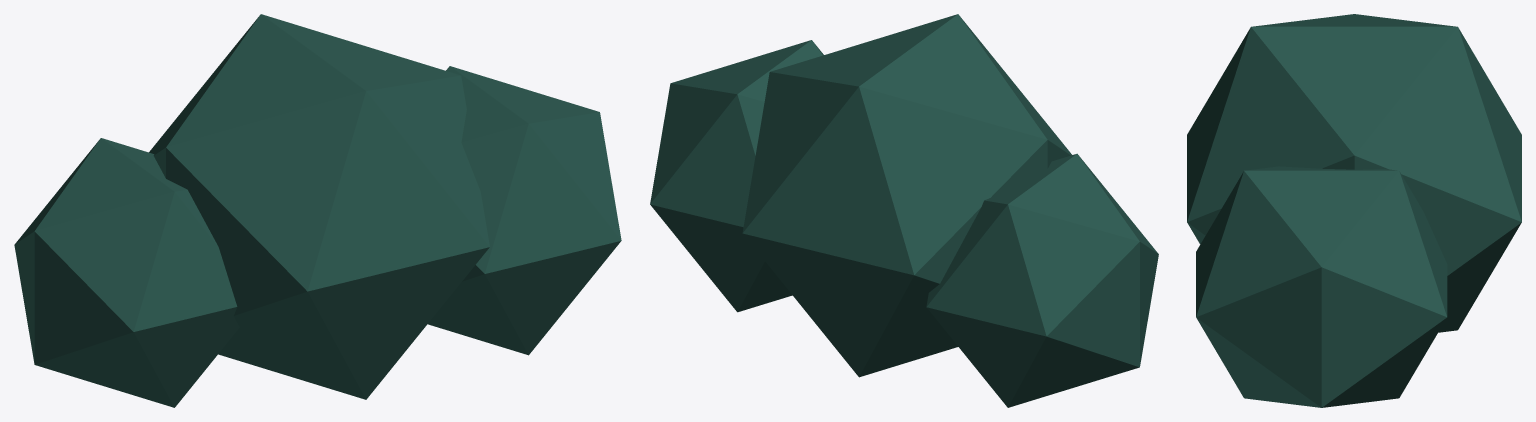
File: bush.glb
3 views of the same model, side by side, from view 1: azimuth 30°, elevation 25°; view 2: azimuth 150°, elevation 25°; view 3: azimuth 270°, elevation 25° (orthographic). The views are drawn at different scales.
Visible parts, largest first — view 1: Ball0, Ball1, Ball2; view 2: Ball0, Ball1, Ball2; view 3: Ball0, Ball2.
Part boxes in pixels (x1,y1,x2,y2): Ball0: (149,14,489,399); Ball1: (14,138,239,407); Ball2: (428,66,621,355); Ball0: (742,14,1071,377); Ball1: (926,153,1158,407); Ball2: (650,40,823,312); Ball0: (1187,14,1521,332); Ball2: (1196,166,1447,407).
Bounding box in the file's own units: 1.84 × 1.02 × 1.02.
